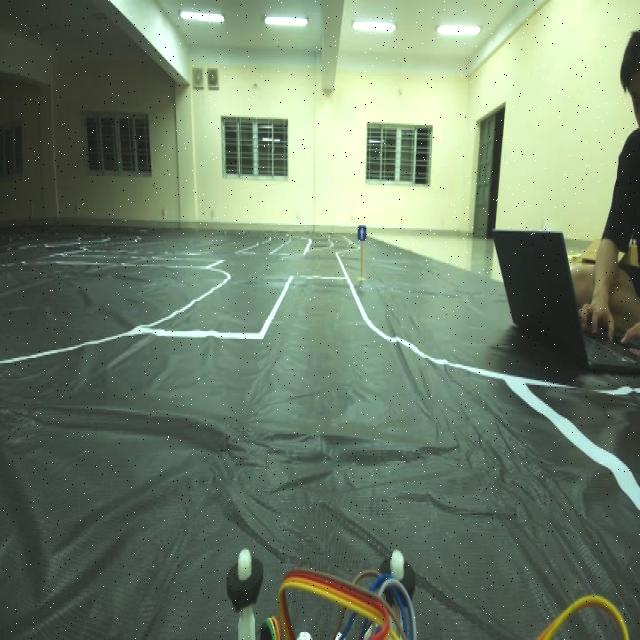onewayroad: (353, 217, 372, 252)
